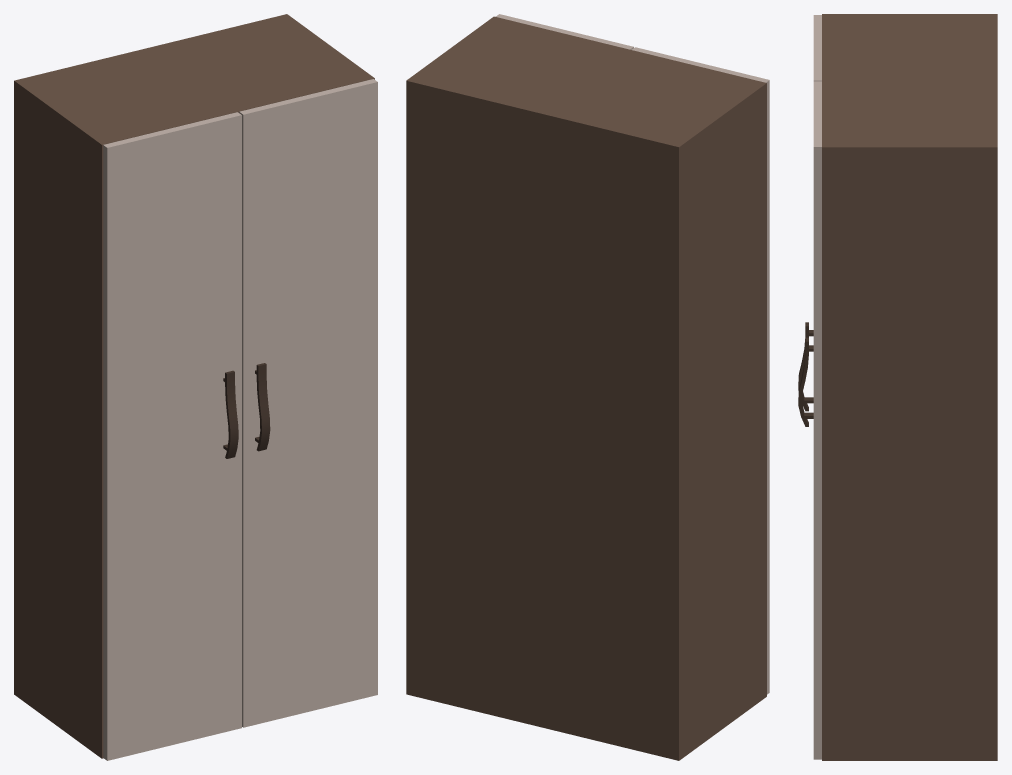
The model's file is Wardrobe_W.fbx.
The picture shows the model from 3 angles, left to right: view 1: azimuth 30°, elevation 25°; view 2: azimuth 150°, elevation 25°; view 3: azimuth 270°, elevation 25°; orthographic projection.
Visible parts, largest first — view 1: FurnitureSet_11_v_08_Door_L, FurnitureSet_11_v_08_Door_R, FurnitureSet_11_v_08; view 2: FurnitureSet_11_v_08, FurnitureSet_11_v_08_Door_L; view 3: FurnitureSet_11_v_08, FurnitureSet_11_v_08_Door_R, FurnitureSet_11_v_08_Door_L.
Part boxes in pixels (left/top/right/bottom): FurnitureSet_11_v_08_Door_L: left=103, top=112, right=241, bottom=760; FurnitureSet_11_v_08_Door_R: left=239, top=79, right=377, bottom=727; FurnitureSet_11_v_08: left=14, top=14, right=374, bottom=758; FurnitureSet_11_v_08: left=406, top=16, right=766, bottom=760; FurnitureSet_11_v_08_Door_L: left=632, top=47, right=769, bottom=694; FurnitureSet_11_v_08: left=822, top=14, right=997, bottom=760; FurnitureSet_11_v_08_Door_R: left=798, top=81, right=821, bottom=759; FurnitureSet_11_v_08_Door_L: left=798, top=15, right=821, bottom=411.
Size of the model in its own units: 86.71 by 188 by 54.85.
